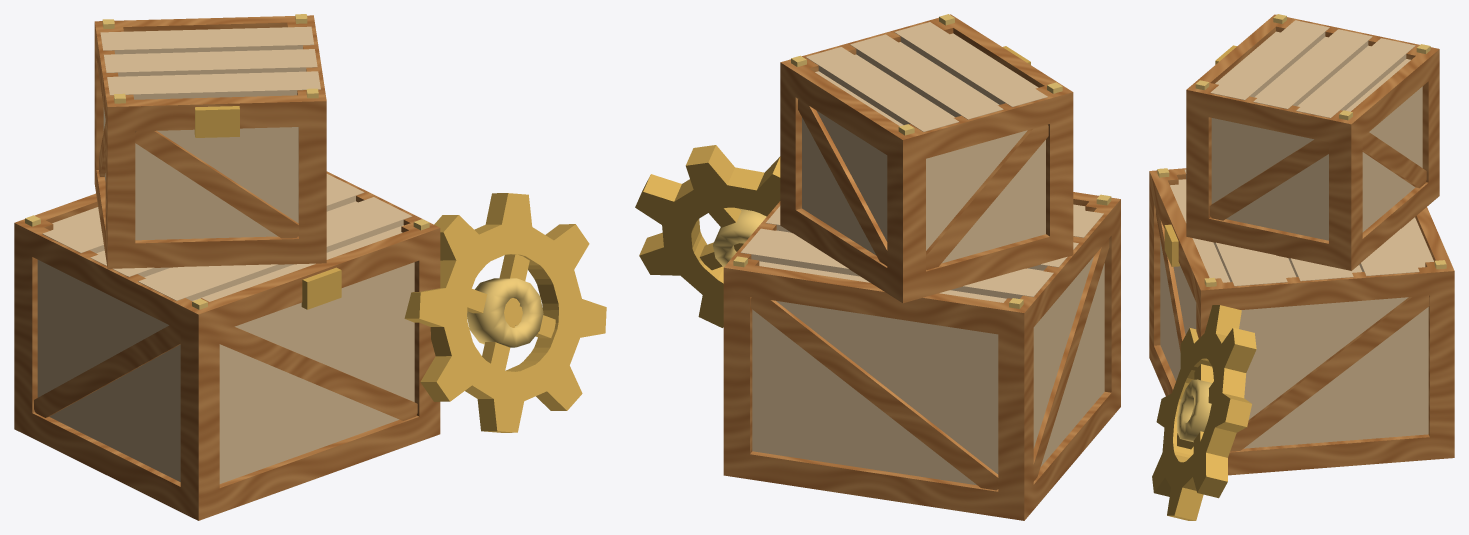
File: decor_caisses.glb
The picture shows the model from 3 angles, left to right: view 1: azimuth 30°, elevation 25°; view 2: azimuth 150°, elevation 25°; view 3: azimuth 270°, elevation 25°; orthographic projection. The views are drawn at different scales.
Visible parts, largest first — view 1: decor_caisses; view 2: decor_caisses; view 3: decor_caisses.
Part boxes in pixels (x1=…): decor_caisses: x1=14, y1=14, x2=606, y2=520; decor_caisses: x1=635, y1=14, x2=1120, y2=520; decor_caisses: x1=1149, y1=14, x2=1454, y2=520.
Size of the model in its own units: 1.37 by 1.01 by 0.8283.
4 materials, 1 textured.
